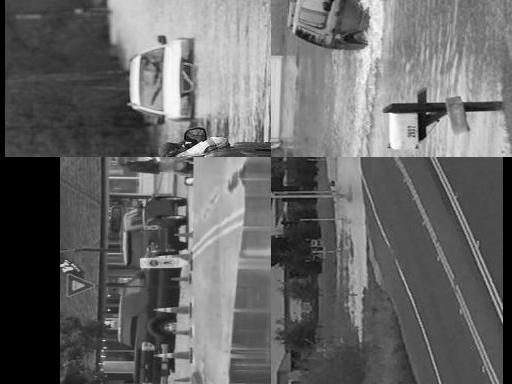road_waterlogging: (193, 0, 271, 118), (100, 0, 177, 30)
